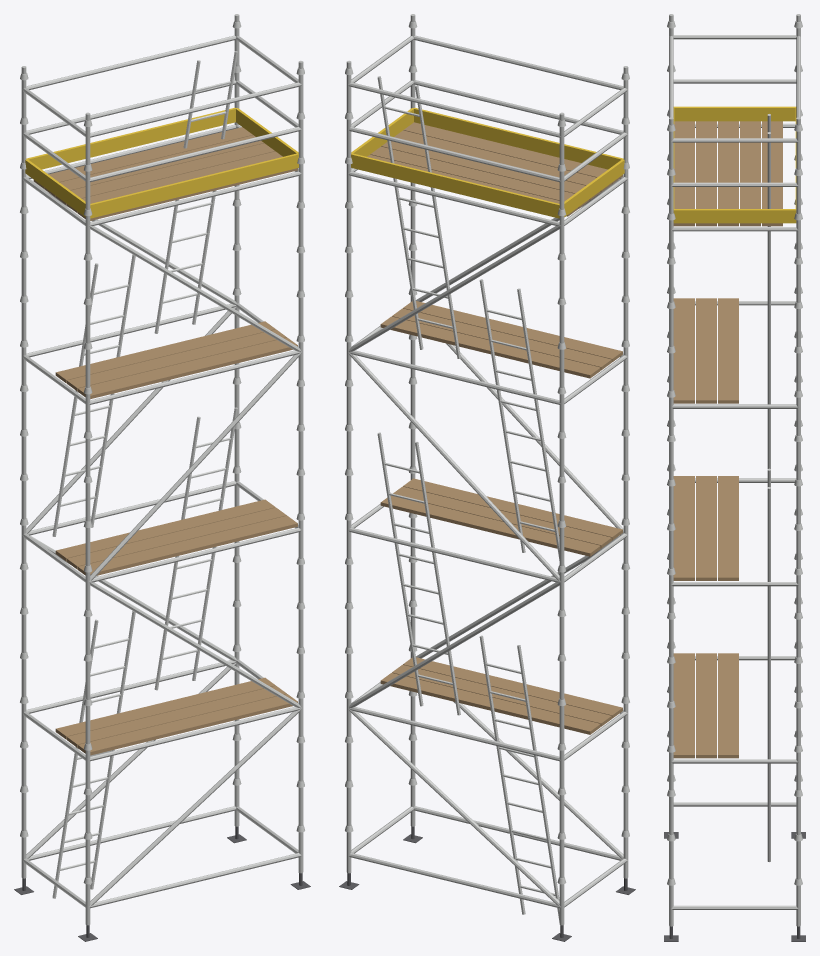
File: SM_ScaffoldTower.fbx
The picture shows the model from 3 angles, left to right: view 1: azimuth 30°, elevation 25°; view 2: azimuth 150°, elevation 25°; view 3: azimuth 270°, elevation 25°; orthographic projection.
Visible parts, largest first — view 1: SC_Boards, SC_LedgersTransoms, SC_Standards, SC_Ladder; view 2: SC_Boards, SC_LedgersTransoms, SC_Standards, SC_Ladder; view 3: SC_Boards, SC_Standards, SC_LedgersTransoms, SC_Ladder.
Part boxes in pixels (x1,y1,x2,y2): SC_Boards: (25, 107, 298, 755); SC_LedgersTransoms: (22, 35, 301, 908); SC_Standards: (14, 14, 310, 941); SC_Ladder: (52, 51, 237, 898); SC_Boards: (351, 107, 624, 734); SC_LedgersTransoms: (348, 35, 627, 908); SC_Standards: (339, 14, 635, 941); SC_Ladder: (377, 76, 559, 922); SC_Boards: (673, 106, 796, 758); SC_Standards: (664, 14, 805, 941); SC_LedgersTransoms: (669, 35, 800, 909); SC_Ladder: (767, 114, 770, 861).
Bounding box in the file's own units: 265 × 925 × 145.
